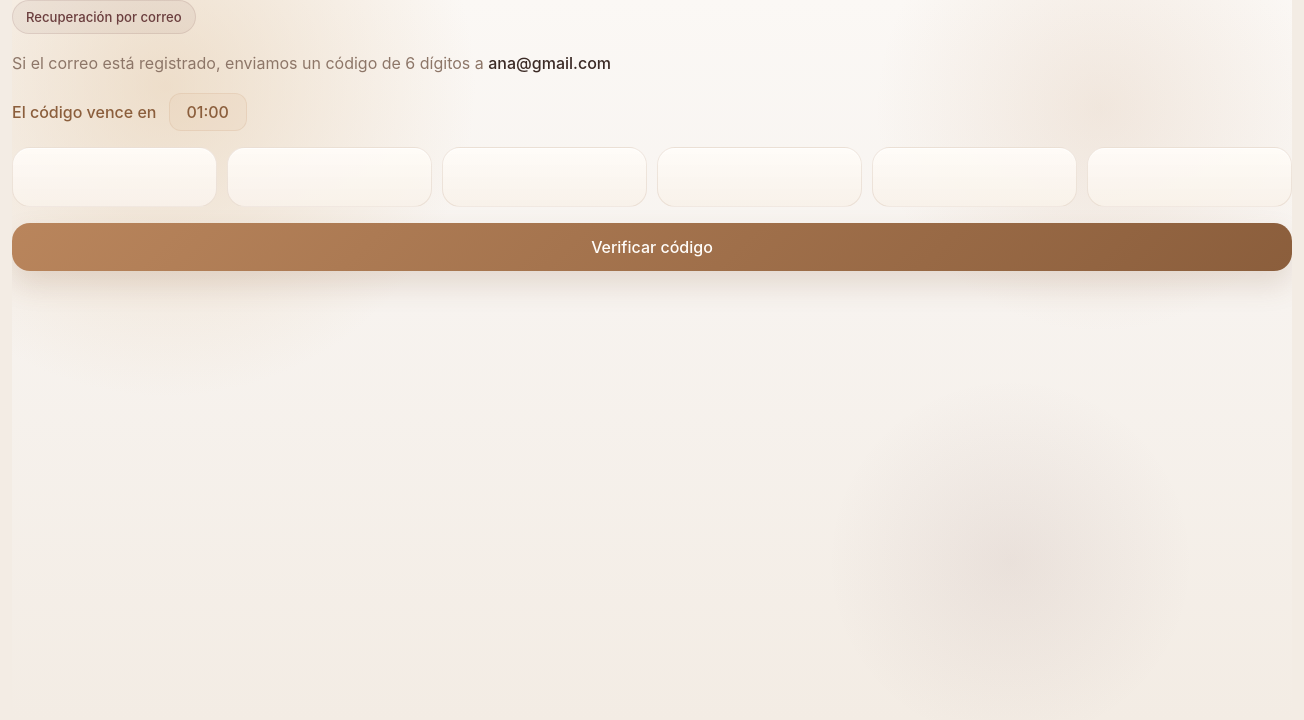
PasswordResetForm › keeps the user on the code step when the server rejects the code
This screenshot has width=1304, height=720.
Type "1" into the field named "Dígito 1 del código" at (114, 177), box [12,147,217,207]
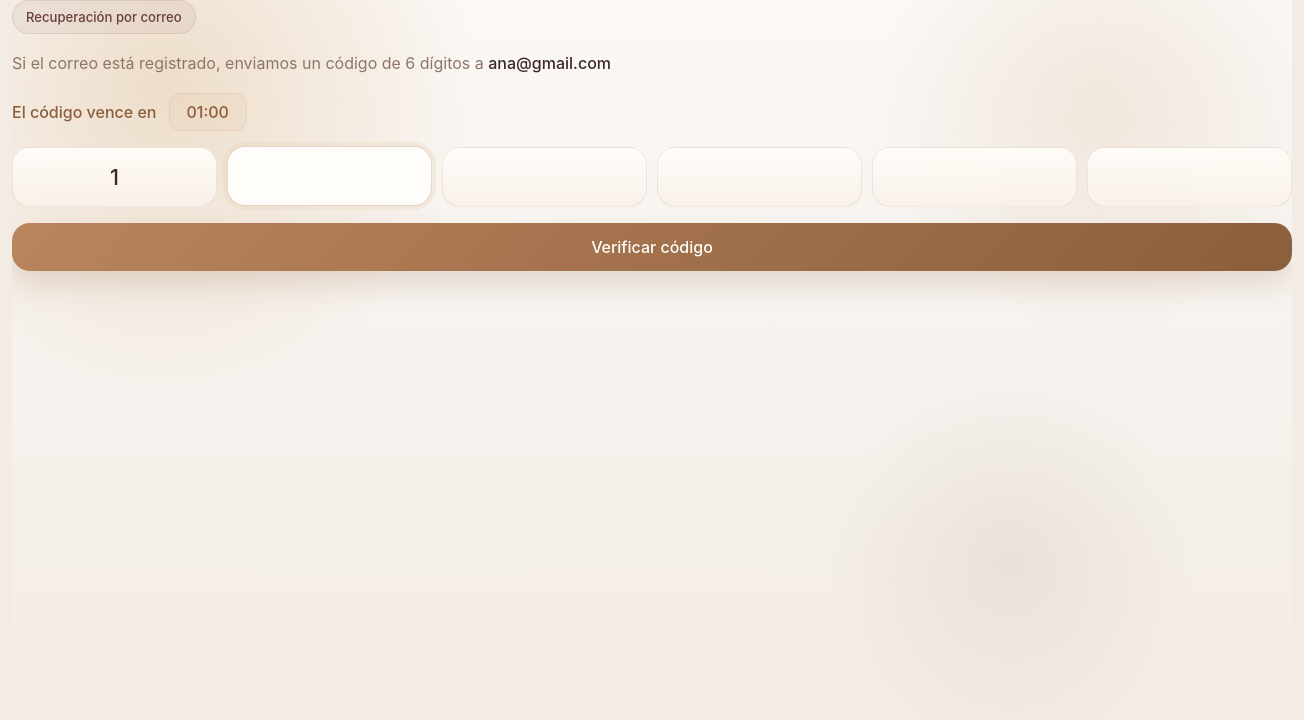
Type "2" into the field named "Dígito 2 del código" at (330, 176), box [227,146,432,206]
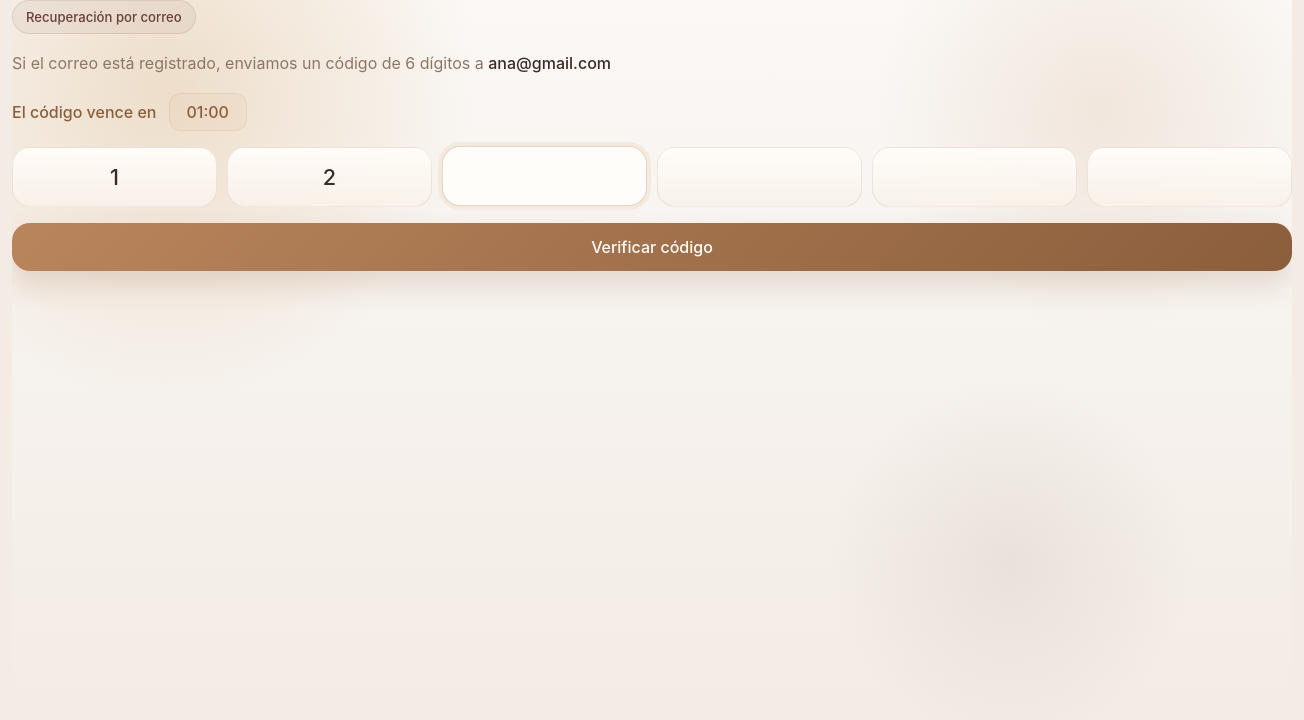
Type "3" into the field named "Dígito 3 del código" at (544, 176), box [442,146,647,206]
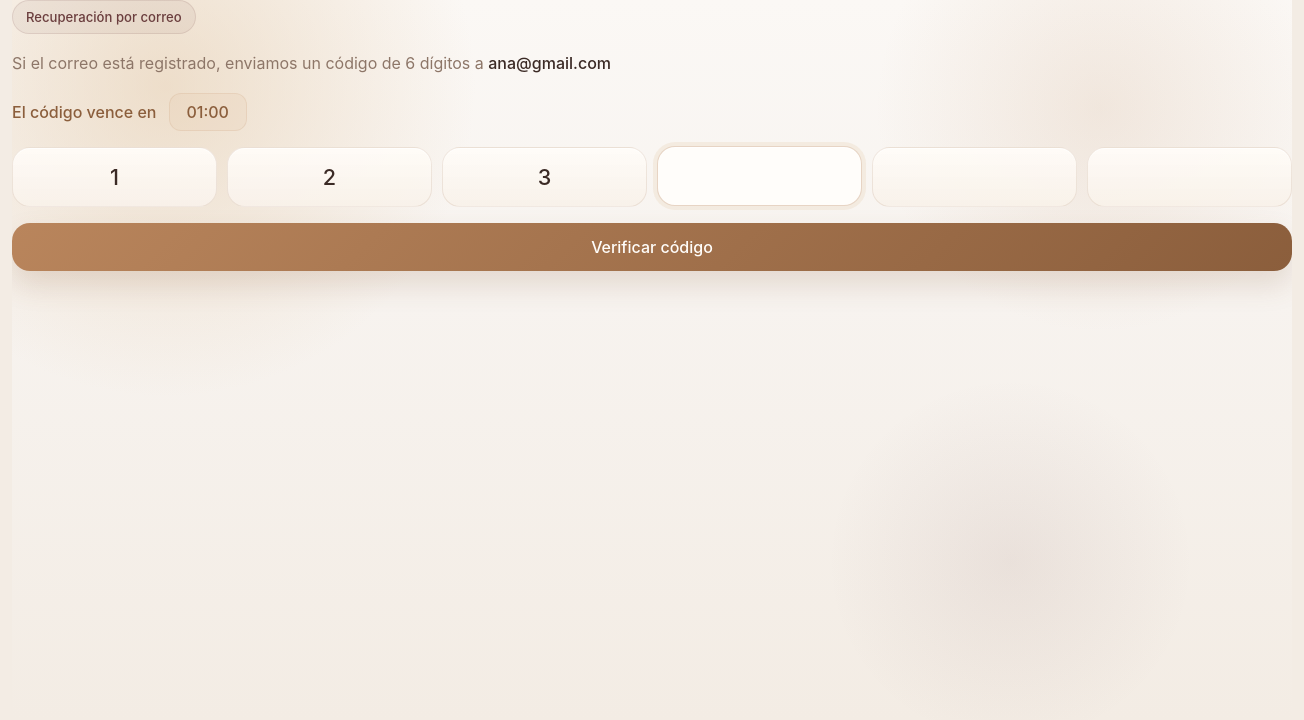
Type "4" into the field named "Dígito 4 del código" at (760, 176), box [657,146,862,206]
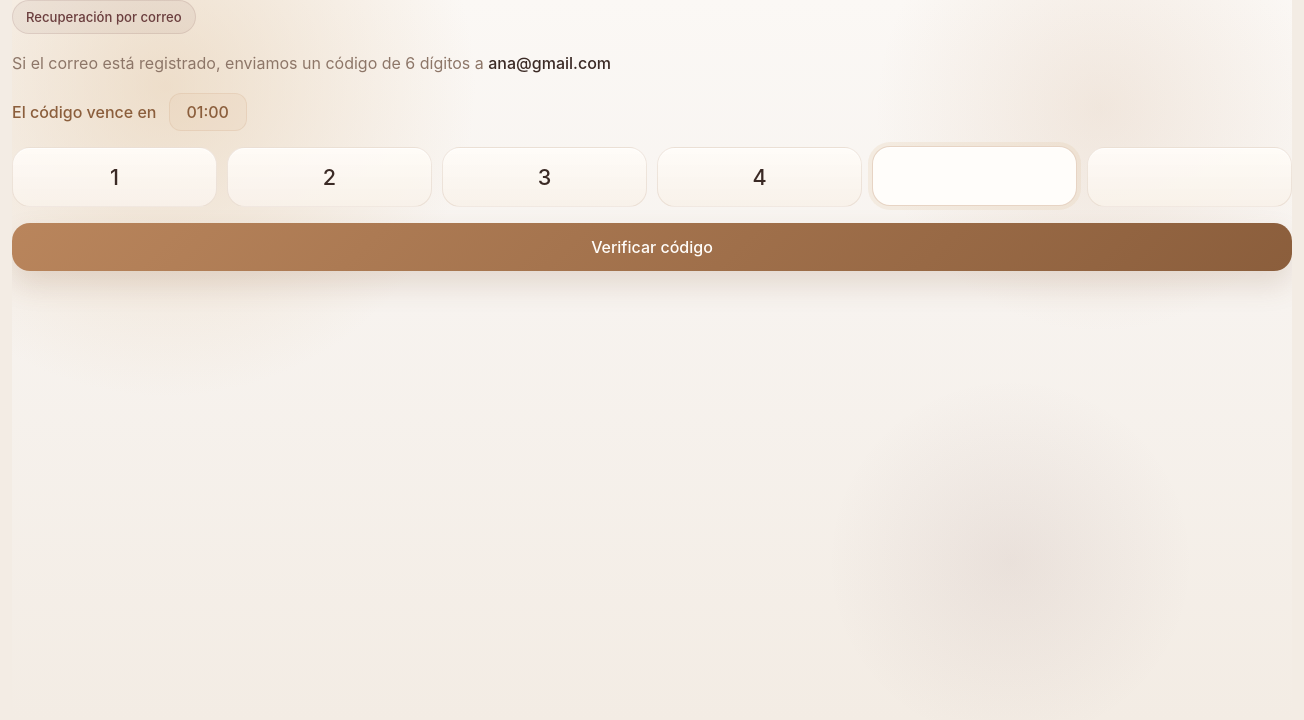
Type "5" into the field named "Dígito 5 del código" at (974, 176), box [872,146,1077,206]
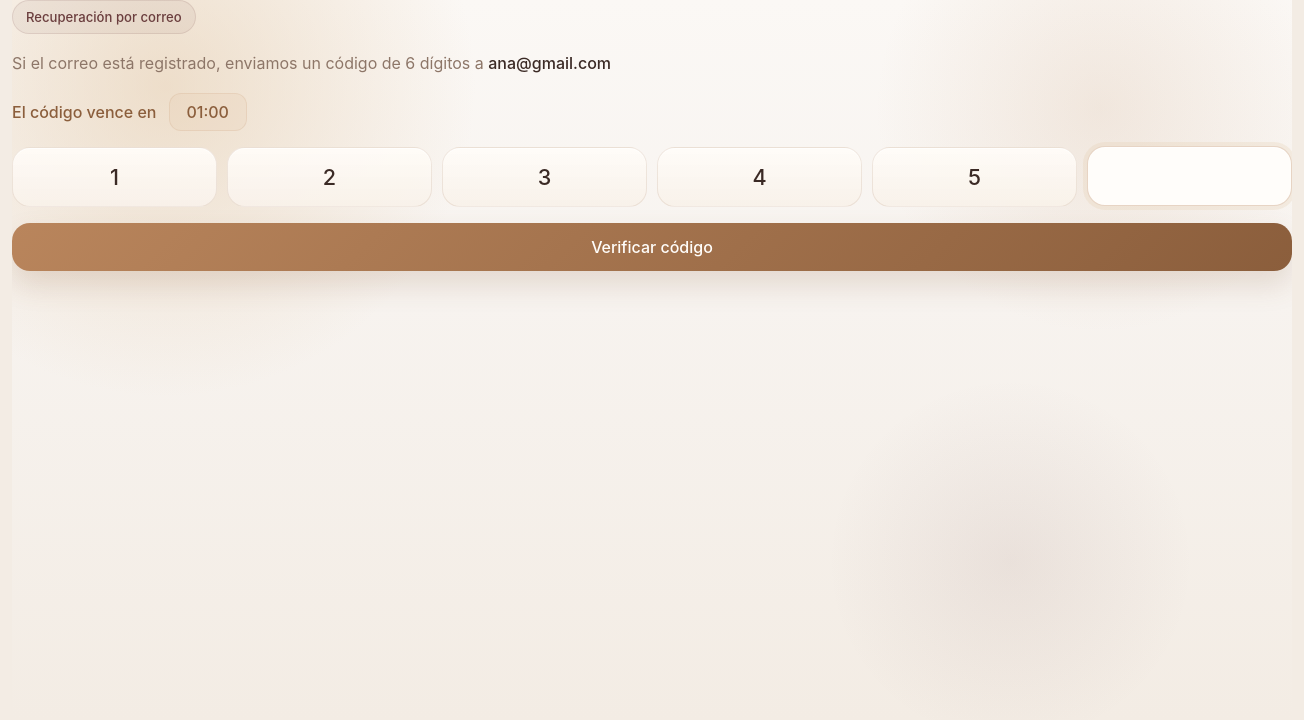
Type "6" into the field named "Dígito 6 del código" at (1190, 176), box [1087,146,1292,206]
Click the button "Verificar código" at (652, 247), box [12,223,1292,271]
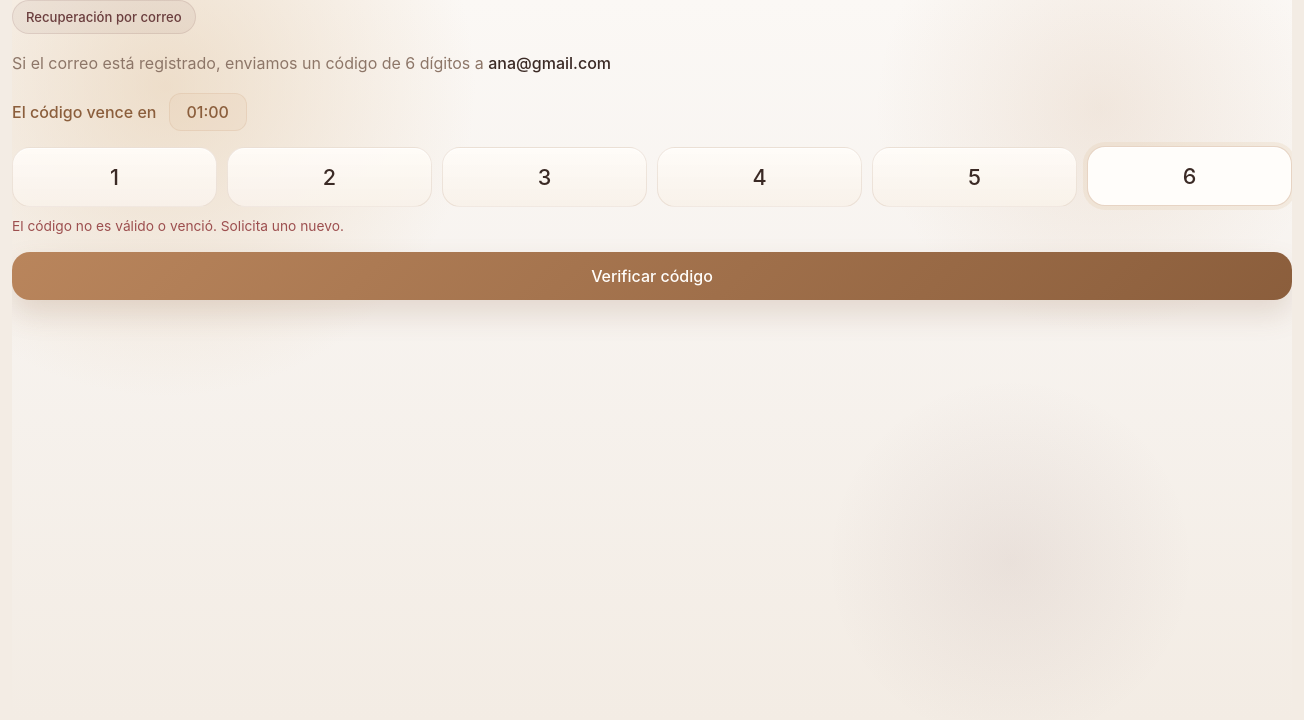
Now the message reads "El código no es válido o venció. Solicita uno nuevo.", box [12,218,344,234]
